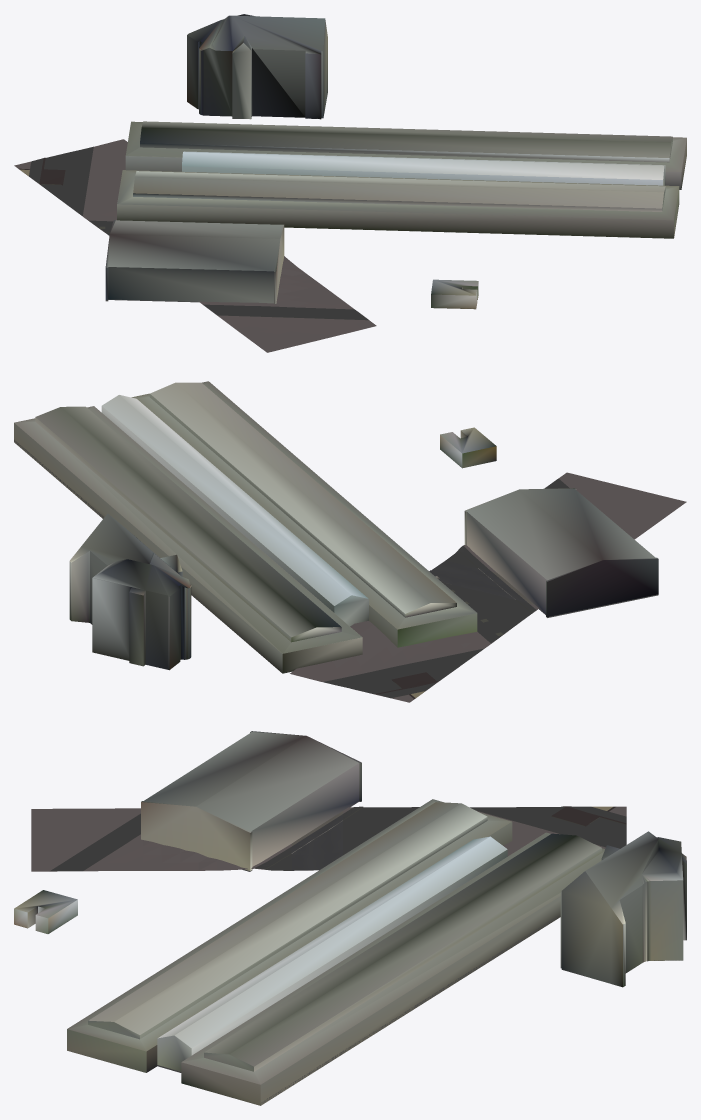
3 renders of one model, top to bottom at view 1: azimuth 30°, elevation 25°; view 2: azimuth 150°, elevation 25°; view 3: azimuth 270°, elevation 25°, orthographic. The views are drawn at different scales.
Parts seen in each view (by area): view 1: c_p06_p03; view 2: c_p06_p03; view 3: c_p06_p03.
Boxes of the visible parts, x1=… form: c_p06_p03: x1=14, y1=14, x2=686, y2=352; c_p06_p03: x1=14, y1=381, x2=686, y2=702; c_p06_p03: x1=14, y1=731, x2=686, y2=1105.
Bounding box in the file's own units: 171 × 25.32 × 145.
